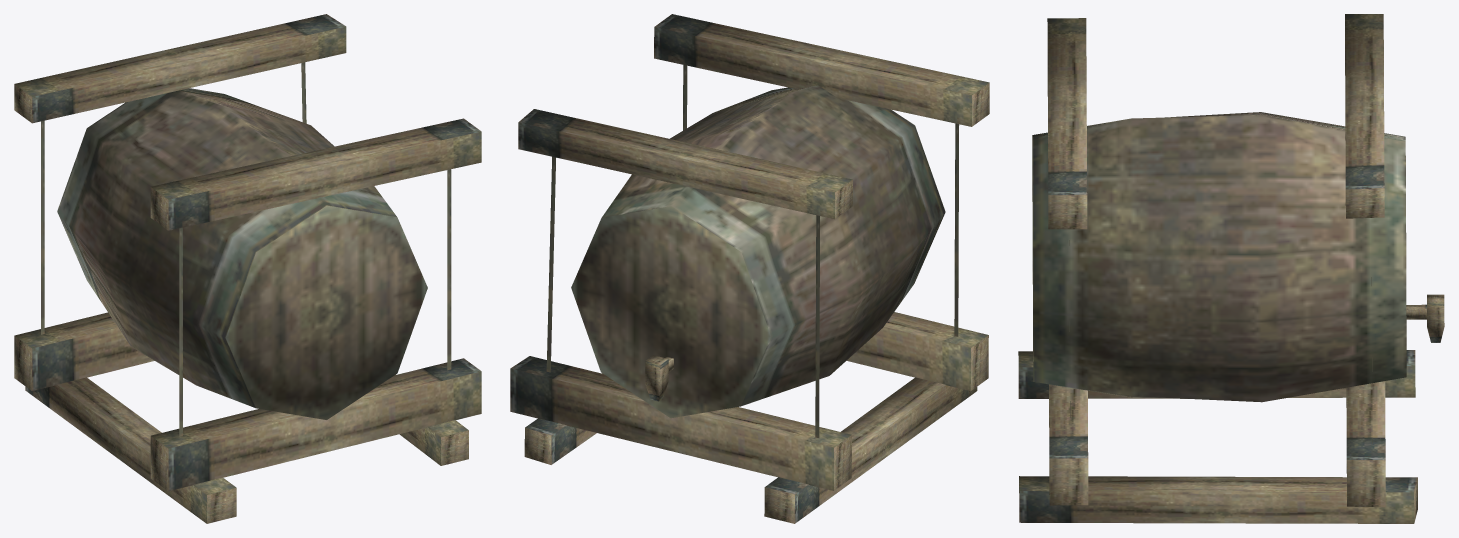
Rendered from S_Build_West026.FBX.
The picture shows the model from 3 angles, left to right: view 1: azimuth 30°, elevation 25°; view 2: azimuth 150°, elevation 25°; view 3: azimuth 270°, elevation 25°; orthographic projection. The views are drawn at different scales.
Parts seen in each view (by area): view 1: S_Build_West026; view 2: S_Build_West026; view 3: S_Build_West026.
Boxes of the visible parts, x1=… form: S_Build_West026: x1=14, y1=14, x2=481, y2=523; S_Build_West026: x1=510, y1=14, x2=989, y2=523; S_Build_West026: x1=1018, y1=14, x2=1444, y2=523.
Size of the model in its own units: 157 by 165 by 152.
